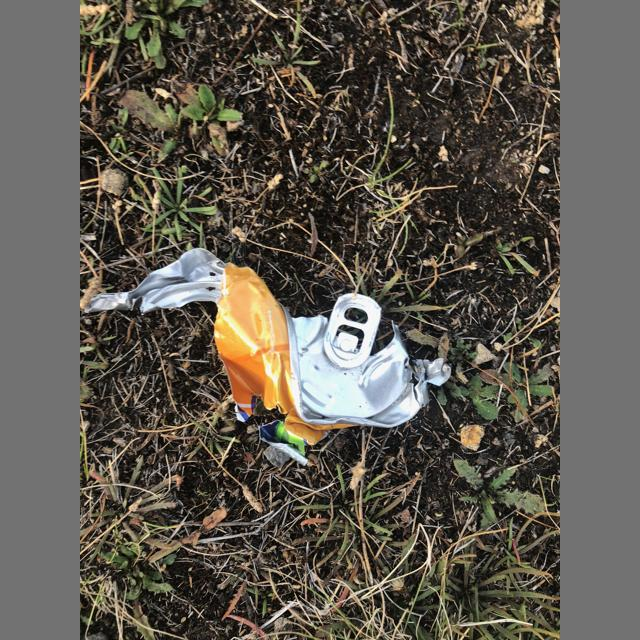litter: (84, 248, 451, 466), (324, 293, 382, 368)
